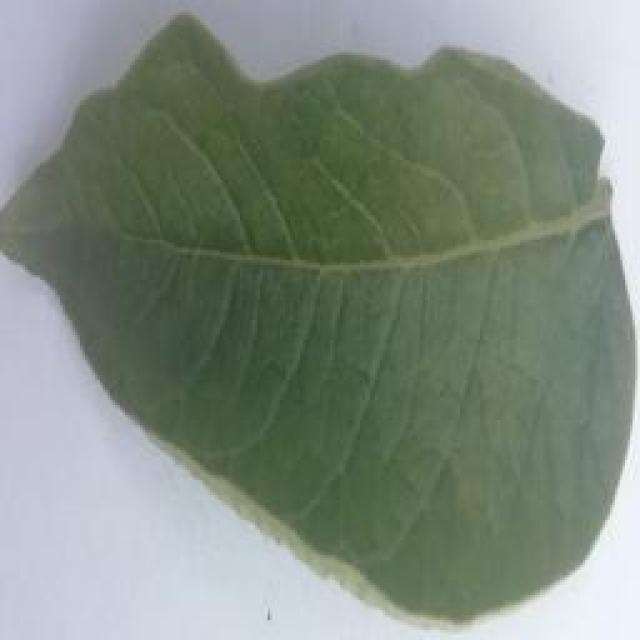Potato_Healthy: (3, 11, 623, 627)
